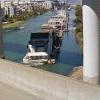Boat: (24, 14, 66, 69)
